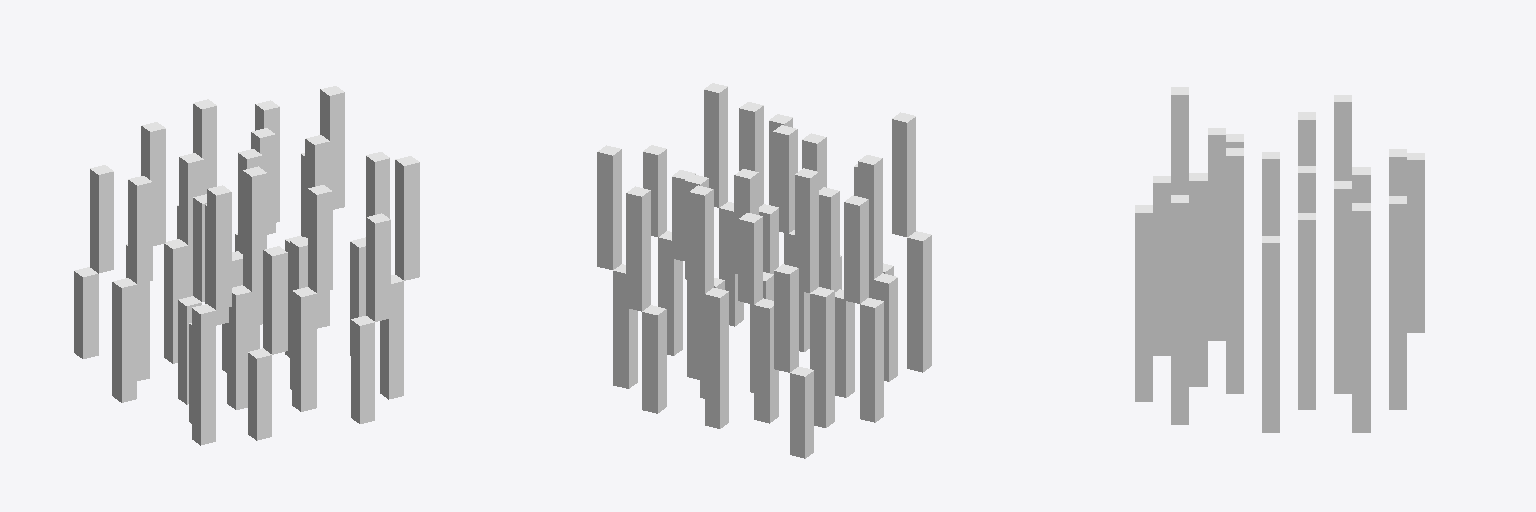
File: Wheat.obj
3 renders of one model, left to right at view 1: azimuth 30°, elevation 25°; view 2: azimuth 150°, elevation 25°; view 3: azimuth 270°, elevation 25°, orthographic.
Size of the model in its own units: 16 by 15 by 16.